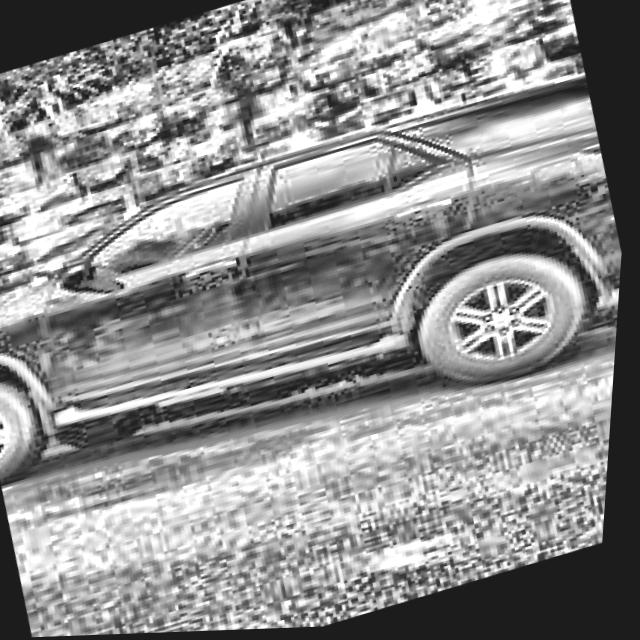light_vehicle: (0, 65, 636, 529)
